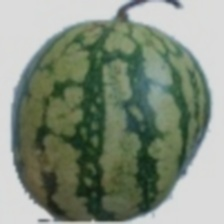watermelon: (46, 16, 200, 174)
